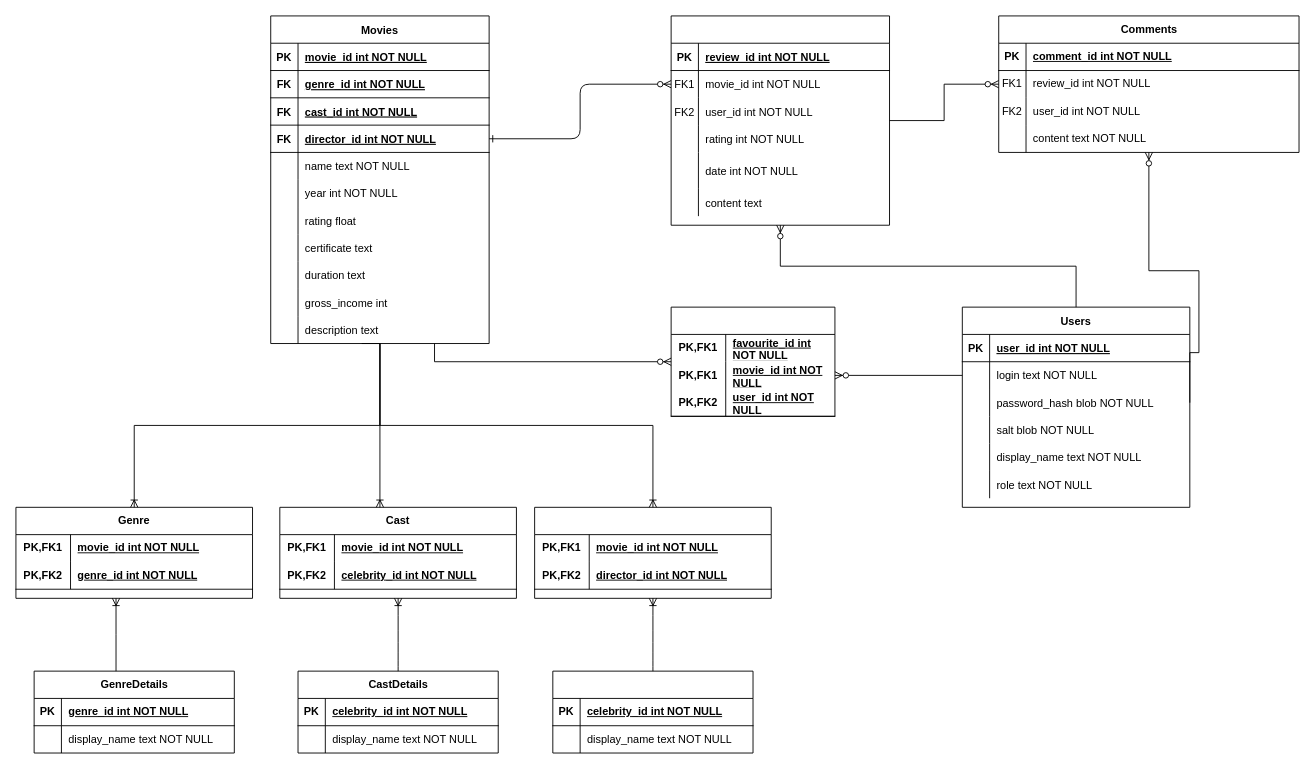
Image size: 1315x769. Some labels were removed from this diagram. The box of each missing label's shape, as (x1, y1, x2, y2) in pixels:
Directors: (534, 506, 771, 598)
DirectorsDetails: (552, 670, 753, 753)
FavouriteMovies: (670, 306, 835, 416)
Reviews: (670, 15, 890, 225)
